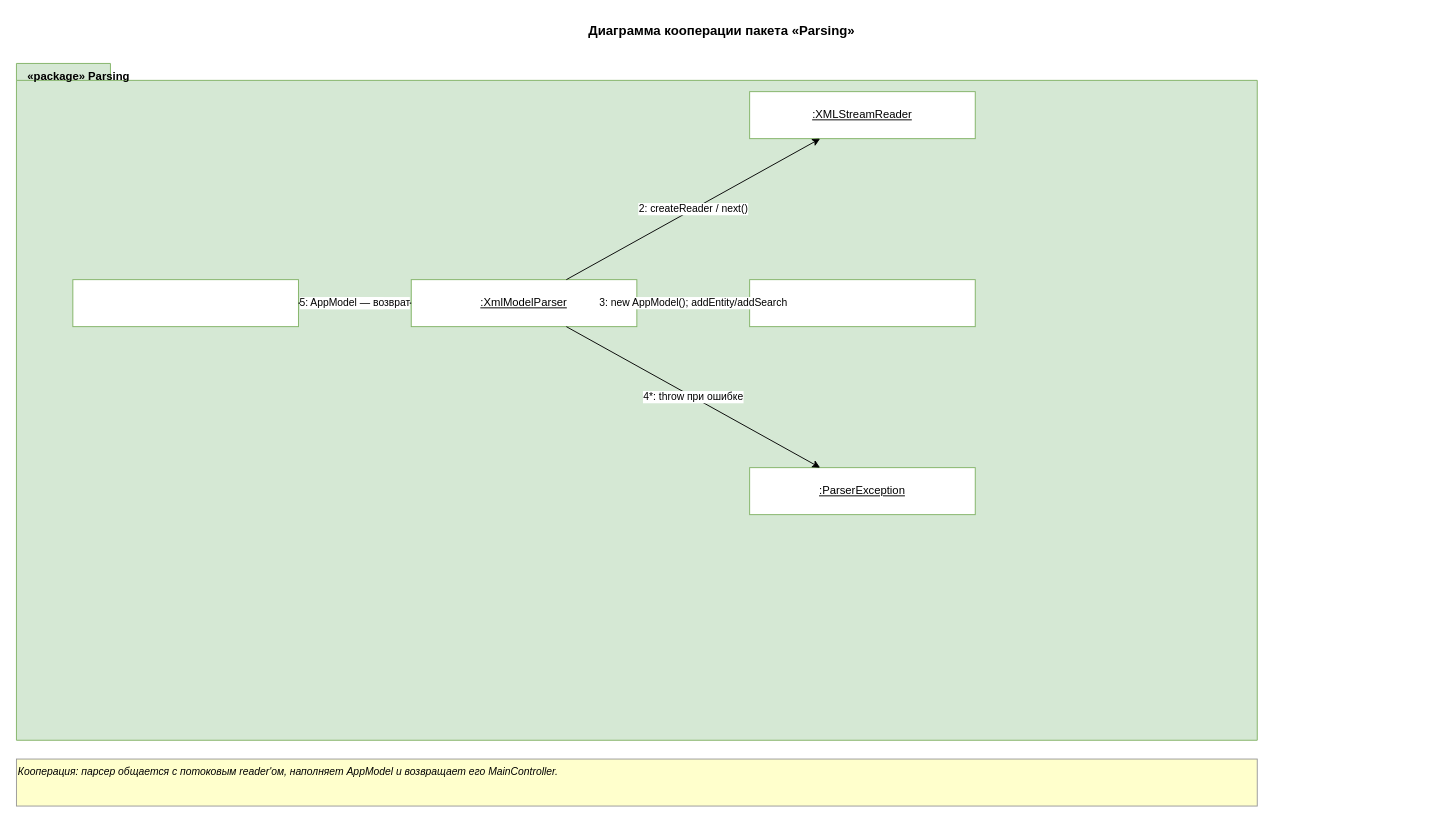
Some shapes in this 1443 by 823 pixel diagram are drawn without their labels. Here are the shapes that lost their labels. From the top down, the centre of each, then its label:
point 185,303: :MainController
point 862,303: :AppModel
